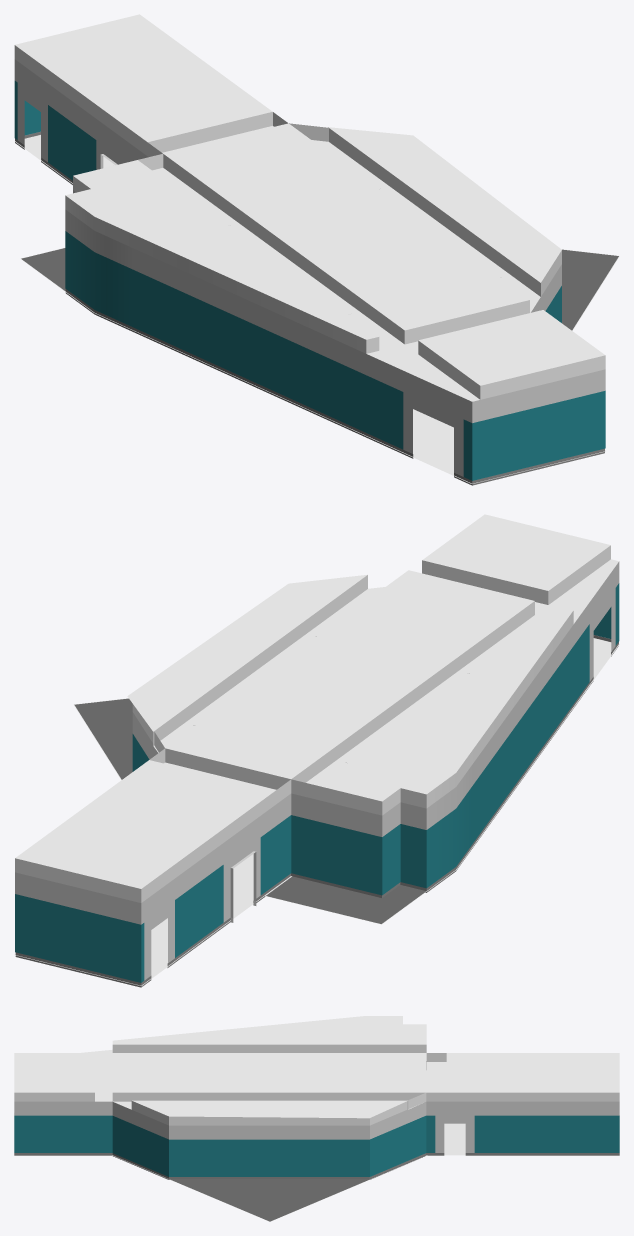
3 views of the same model, one above another, from view 1: azimuth 30°, elevation 25°; view 2: azimuth 150°, elevation 25°; view 3: azimuth 270°, elevation 25° (orthographic). The views are drawn at different scales.
Visible parts, largest first — view 1: SM_H_Building_FutureTech_WatchTower_01f; view 2: SM_H_Building_FutureTech_WatchTower_01f; view 3: SM_H_Building_FutureTech_WatchTower_01f.
Boxes of the visible parts, x1,y1,x2,y2 form: SM_H_Building_FutureTech_WatchTower_01f: (14, 14, 619, 485); SM_H_Building_FutureTech_WatchTower_01f: (14, 514, 619, 987); SM_H_Building_FutureTech_WatchTower_01f: (14, 1016, 619, 1221).
Bounding box in the file's own units: 1608 × 902 × 186.
